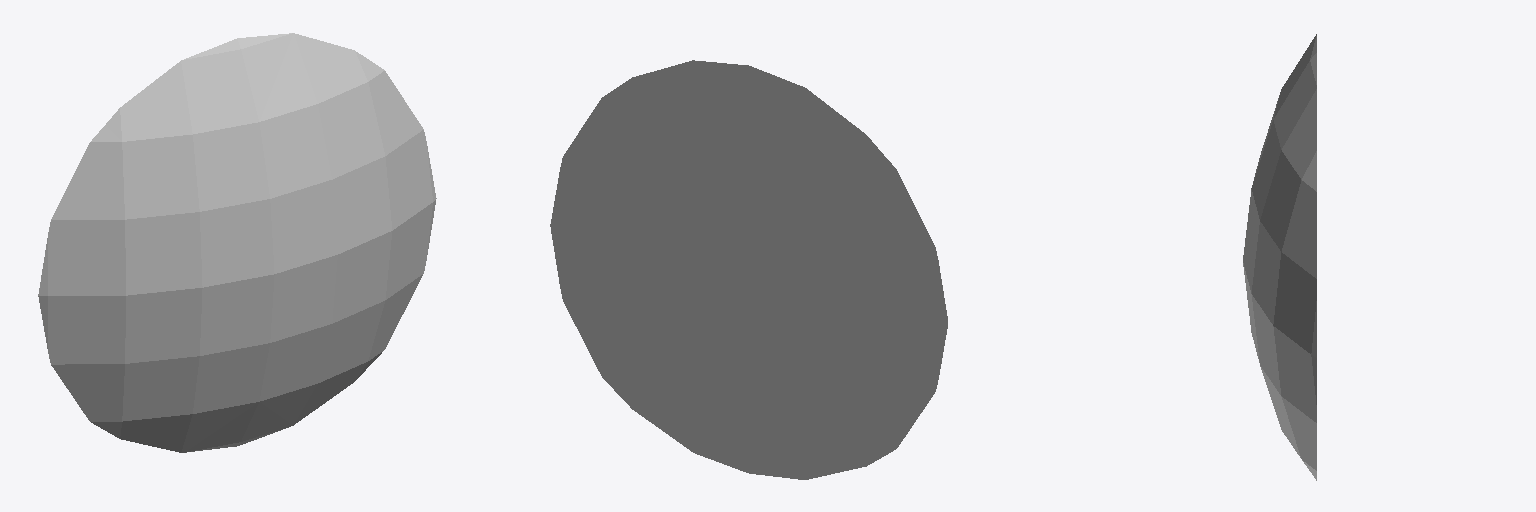
Rendered from apple_slice_09.obj.
The picture shows the model from 3 angles: view 1: azimuth 30°, elevation 25°; view 2: azimuth 150°, elevation 25°; view 3: azimuth 270°, elevation 25°; orthographic projection.
Parts seen in each view (by area): view 1: Apple.Slices.001_Sphere.002; view 2: Apple.Slices.001_Sphere.002; view 3: Apple.Slices.001_Sphere.002.
Boxes of the visible parts, x1=… form: Apple.Slices.001_Sphere.002: x1=38, y1=33, x2=436, y2=452; Apple.Slices.001_Sphere.002: x1=550, y1=60, x2=947, y2=479; Apple.Slices.001_Sphere.002: x1=1243, y1=34, x2=1316, y2=480.
Size of the model in its own units: 1.09 by 1.07 by 0.177.